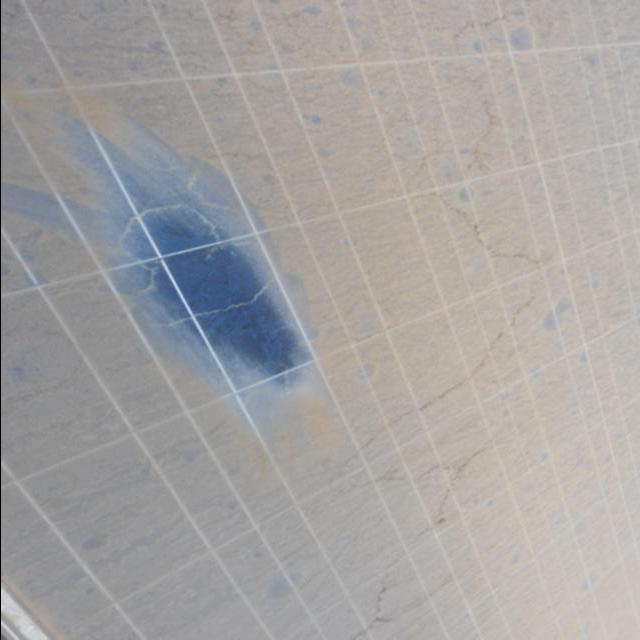soiled: (2, 0, 638, 637)
